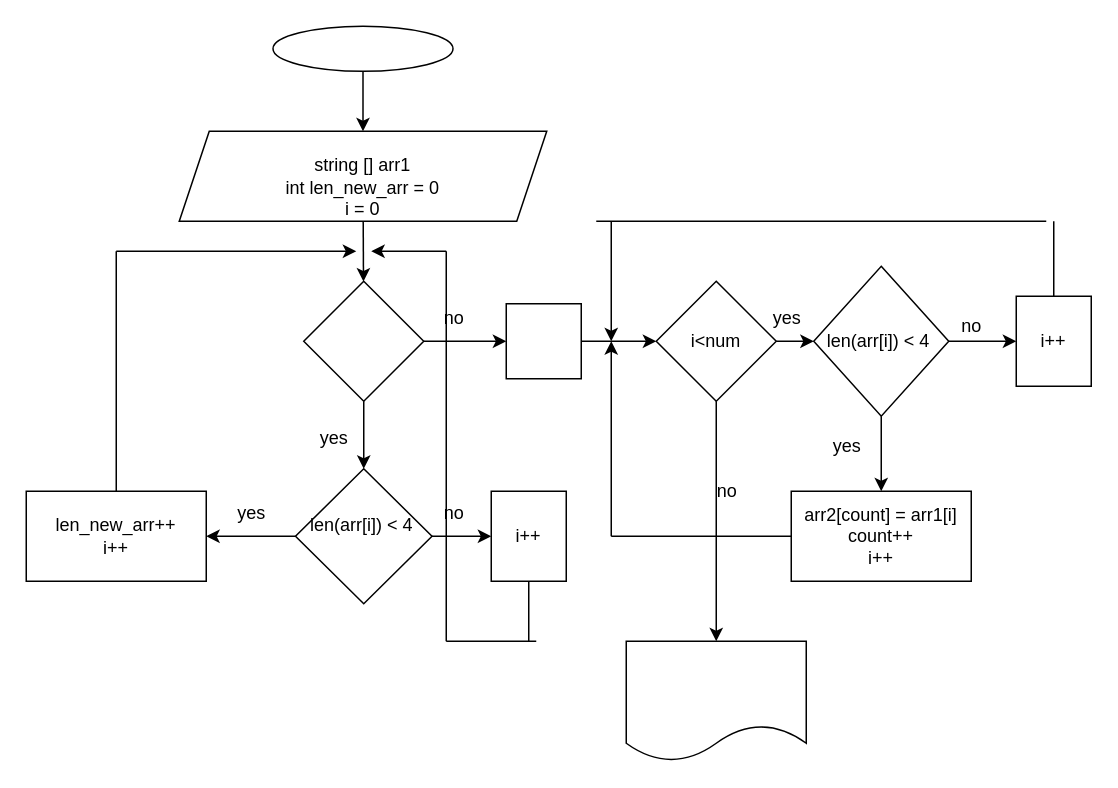
This 1118x788 diagram has some shape labels left out. Each missing label, with the box of its shape:
i < num: (302, 280, 424, 401)
i=0: (505, 302, 581, 379)
print(arr1) print(arr2): (625, 640, 806, 761)
start: (272, 25, 453, 71)
